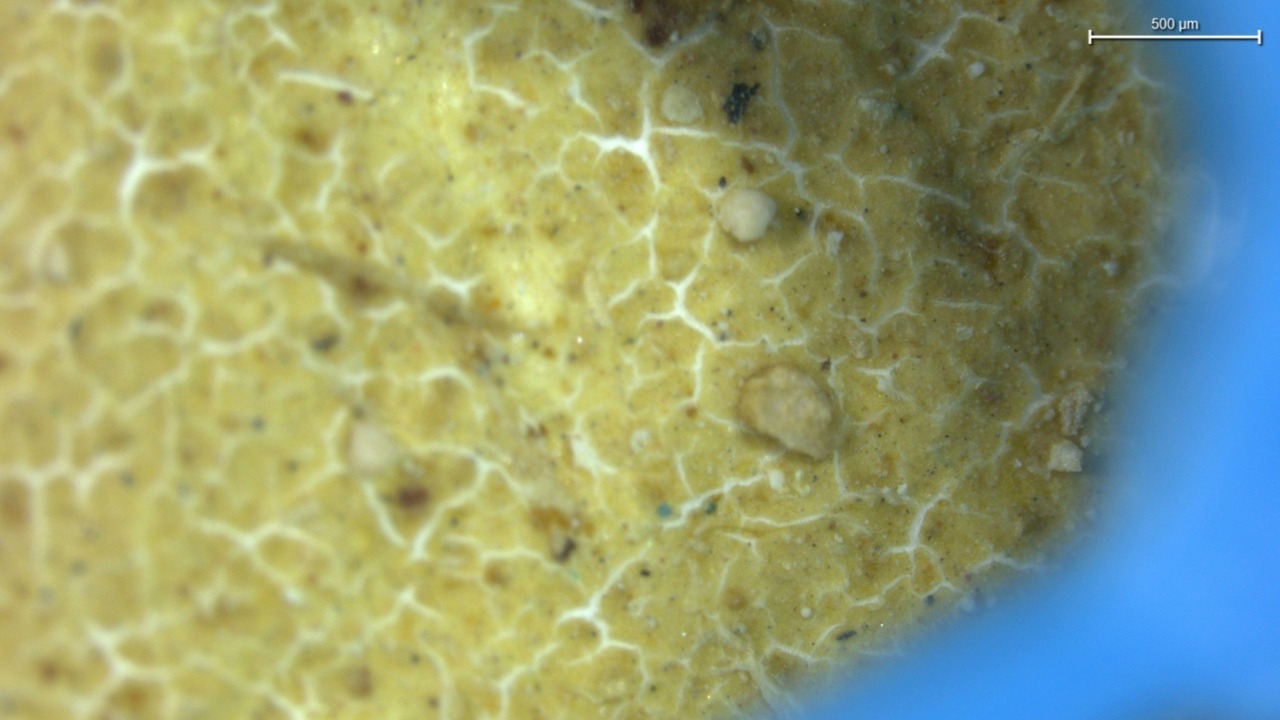microplastic_fragment: (737, 363, 836, 459), (717, 189, 777, 243), (1047, 439, 1083, 472)
